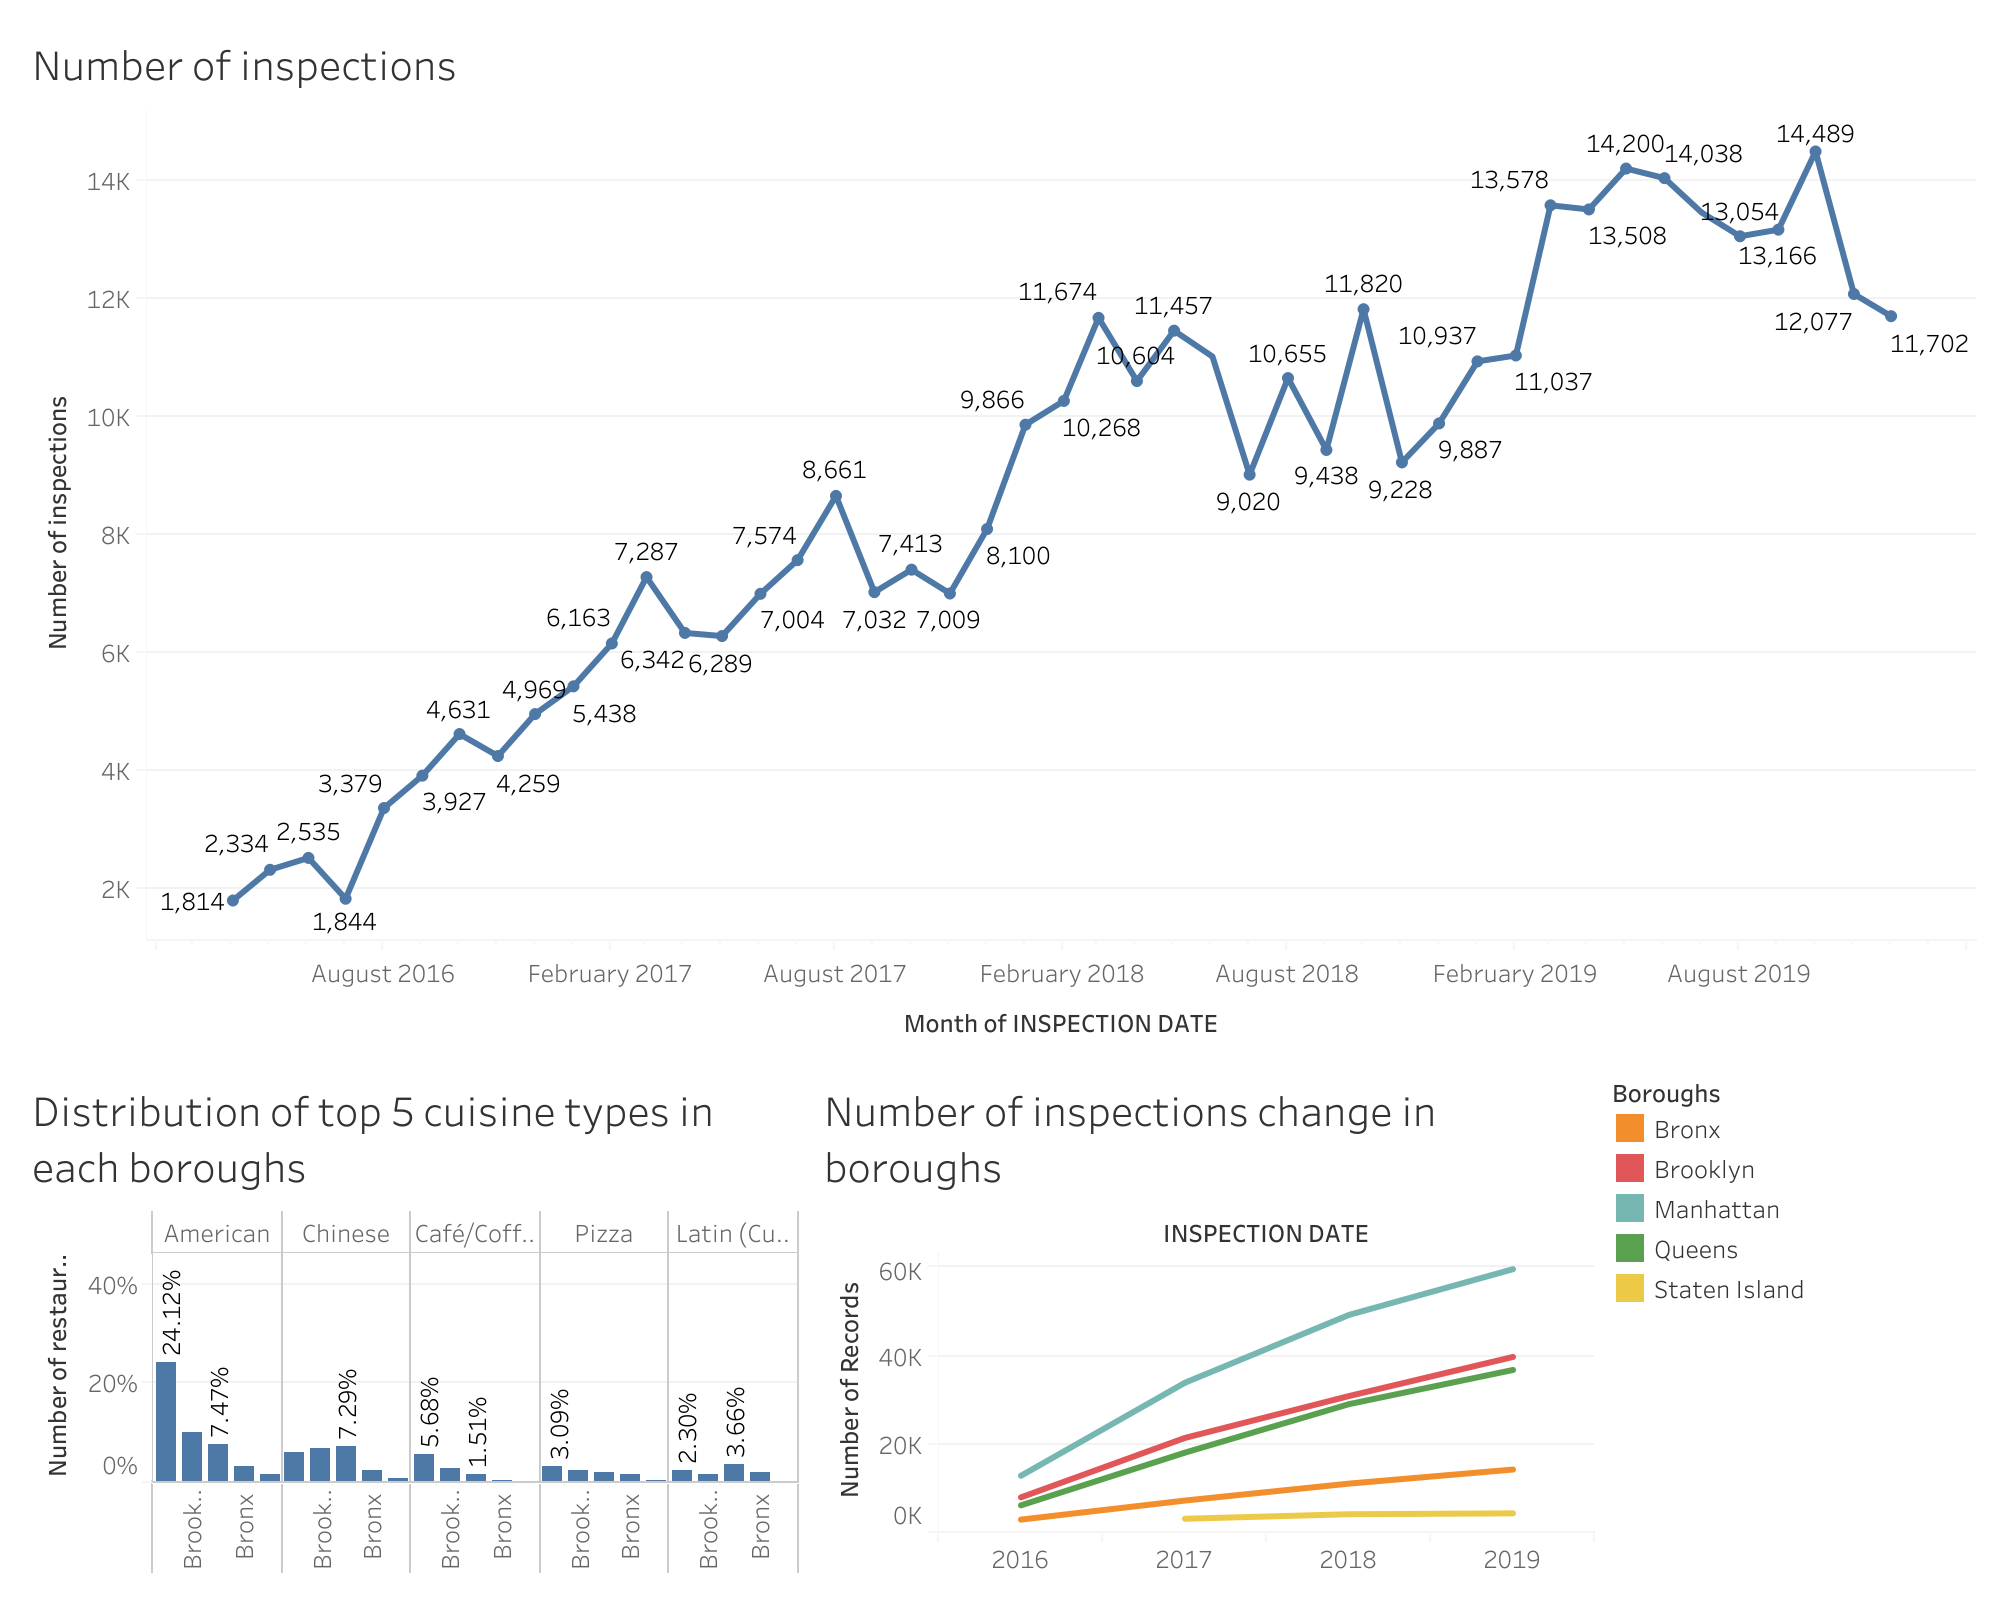

The dashboard page shown, as its layout file describes it:
{"tool":"tableau","page":{"name":"Dashboard1","canvas":[1000,800],"ordinal":0},"visuals":[{"type":"worksheet","title":"Number of inspections","mark":"Automatic","rows":["Number of Records"],"cols":["INSPECTION DATE"],"box":[8,8,984,522.7]},{"type":"worksheet","title":"Distribution of top 5 cuisine types in each boroughs","mark":"Automatic","rows":["Number of Records"],"cols":["CUISINE DESCRIPTION","BORO"],"box":[8,530.7,396.5,261.3]},{"type":"worksheet","title":"Number of inspections change in boroughs","mark":"Automatic","rows":["Number of Records"],"cols":["INSPECTION DATE"],"box":[404.5,530.7,396.5,261.3]},{"type":"legend","title":"Number of inspections change in boroughs","param":"[federated.1rqrh0i1q1i4zn12uevsd094t6z5].[none:BORO:nk]","box":[800.9,530.7,191.1,261.3]}]}

Visuals, with their boxes in screenshot pixels (x1, y1, x2, y2), scaled from the page's 1000x800 canvas onto the 1998x1598 screenshot:
"Number of inspections" worksheet: <box>16,16,1982,1060</box>
"Distribution of top 5 cuisine types in each boroughs" worksheet: <box>16,1060,808,1582</box>
"Number of inspections change in boroughs" worksheet: <box>808,1060,1600,1582</box>
"Number of inspections change in boroughs" legend: <box>1600,1060,1982,1582</box>
